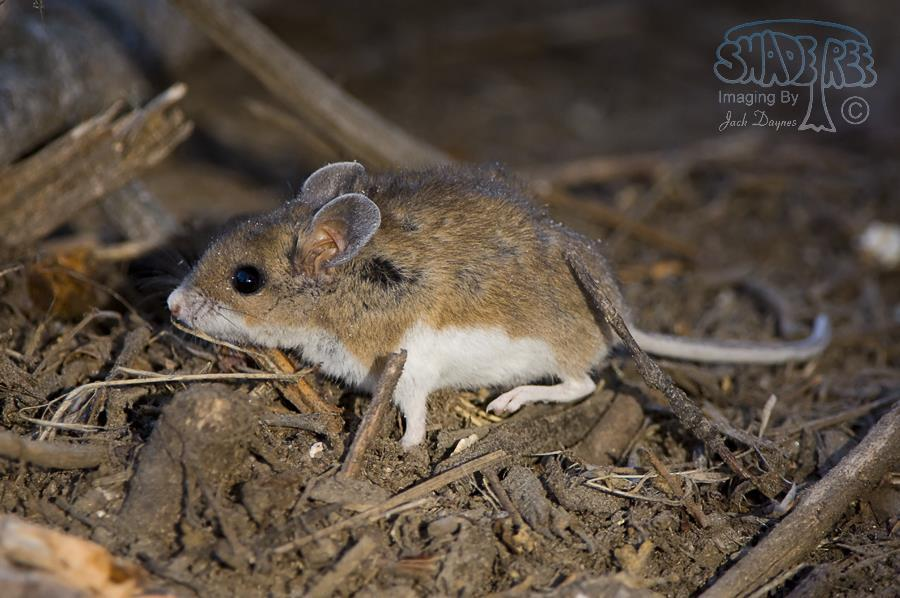rat: (168, 160, 832, 448)
